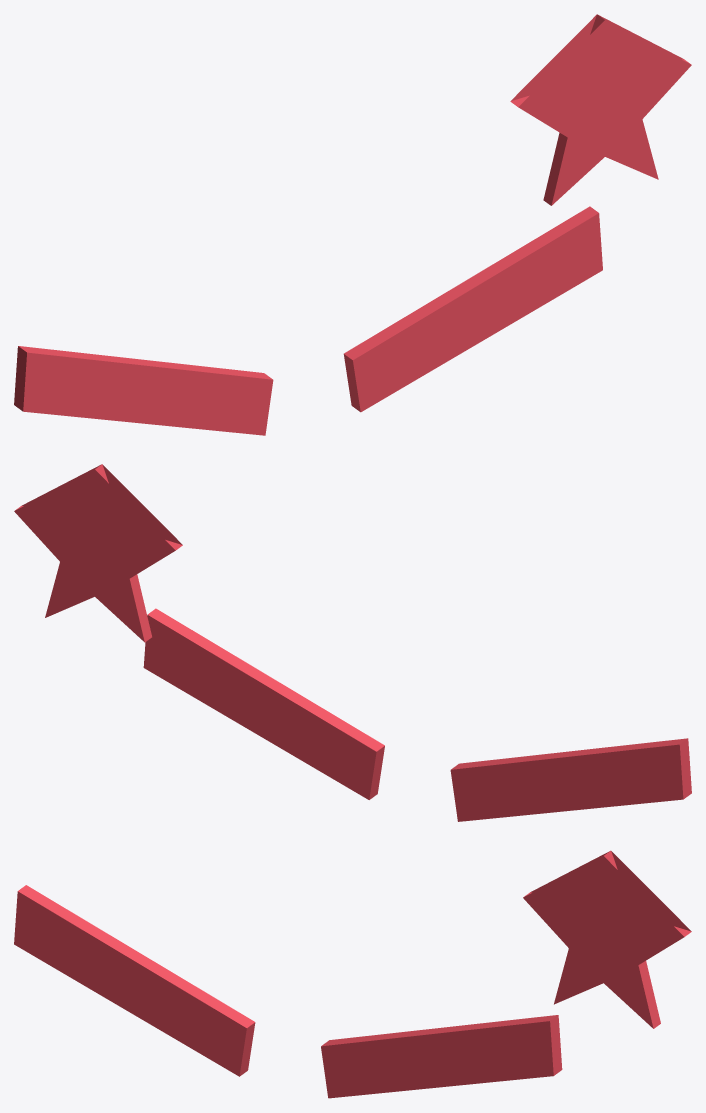
File: angry-face.glb
3 renders of one model, top to bottom at view 1: azimuth 30°, elevation 25°; view 2: azimuth 150°, elevation 25°; view 3: azimuth 330°, elevation 25°, orthographic. The views are drawn at different scales.
Visible parts, largest first — view 1: angry brow (×2), anger symbol; view 2: angry brow (×2), anger symbol; view 3: angry brow (×2), anger symbol.
Part boxes in pixels (<box>): angry brow (×2): <box>14,206,602,435</box>; anger symbol: <box>510,14,691,205</box>; angry brow (×2): <box>143,608,691,821</box>; anger symbol: <box>14,464,182,642</box>; angry brow (×2): <box>14,885,562,1098</box>; anger symbol: <box>523,850,691,1028</box>.
Size of the model in its own units: 1.75 by 0.74 by 0.1475.
